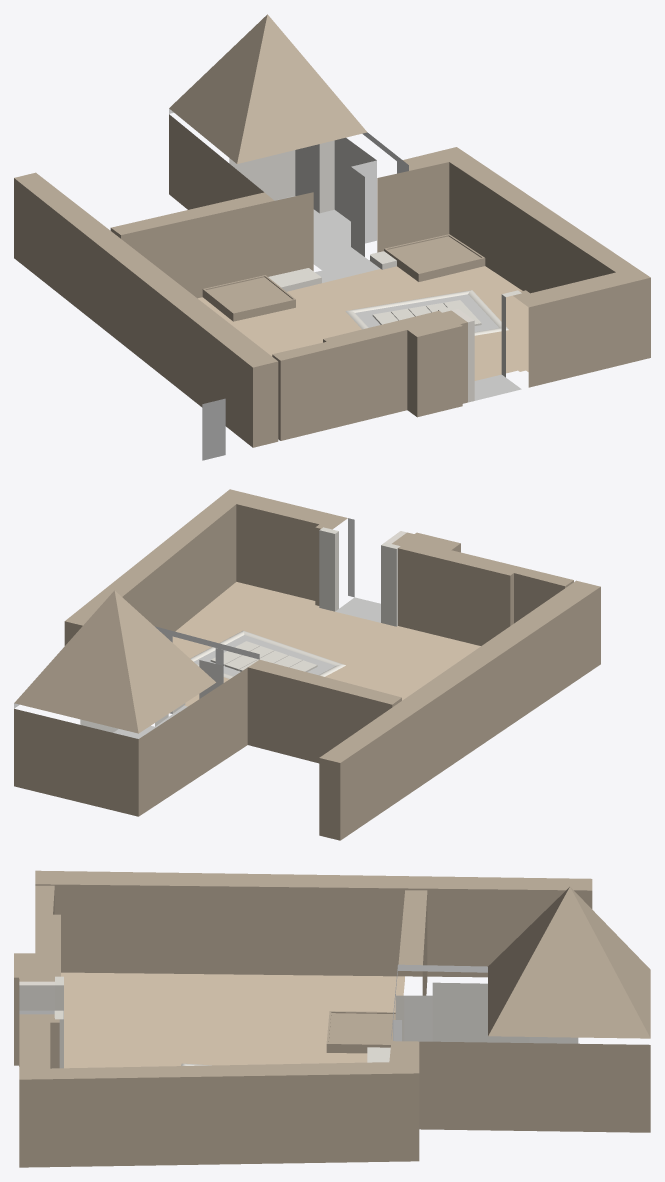
Rendered from Anonymous_Dyn18.glb.
3 views of the same model, one above another, from view 1: azimuth 30°, elevation 25°; view 2: azimuth 150°, elevation 25°; view 3: azimuth 270°, elevation 25° (orthographic). The views are drawn at different scales.
Visible parts, largest first — view 1: Mesh1 Model, Mesh4 Model; view 2: Mesh1 Model; view 3: Mesh1 Model.
Part boxes in pixels (left/top/right/bottom): Mesh1 Model: left=14, top=14, right=650, bottom=447; Mesh4 Model: left=202, top=398, right=225, bottom=460; Mesh1 Model: left=14, top=489, right=600, bottom=840; Mesh1 Model: left=14, top=870, right=650, bottom=1167.
Bounding box in the file's own units: 13.08 × 5.45 × 14.9.
